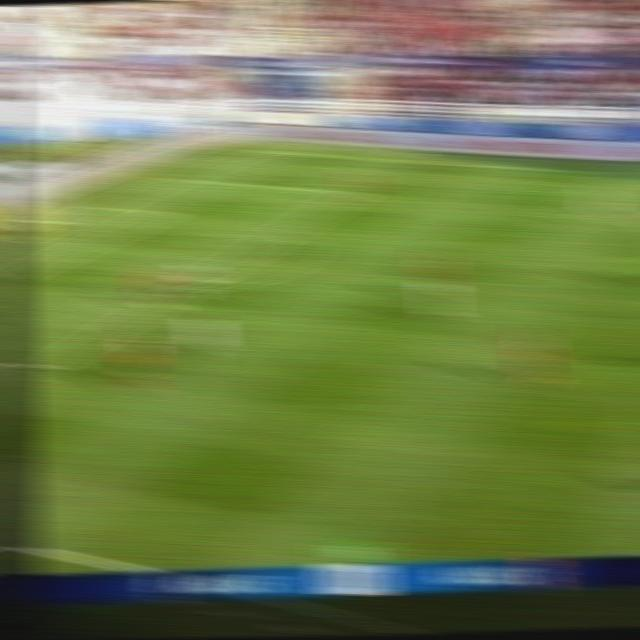bigarea_bottom_inner: (24, 358, 67, 377)
bigarea_top_inner: (340, 188, 368, 198)
bigarea_top_outter: (163, 172, 189, 181)
corner: (236, 145, 264, 152)
smallarea_top_inner: (146, 209, 172, 218)
smallarea_top_outter: (90, 201, 116, 211)
top_arc_area_intersection: (270, 223, 306, 239)
